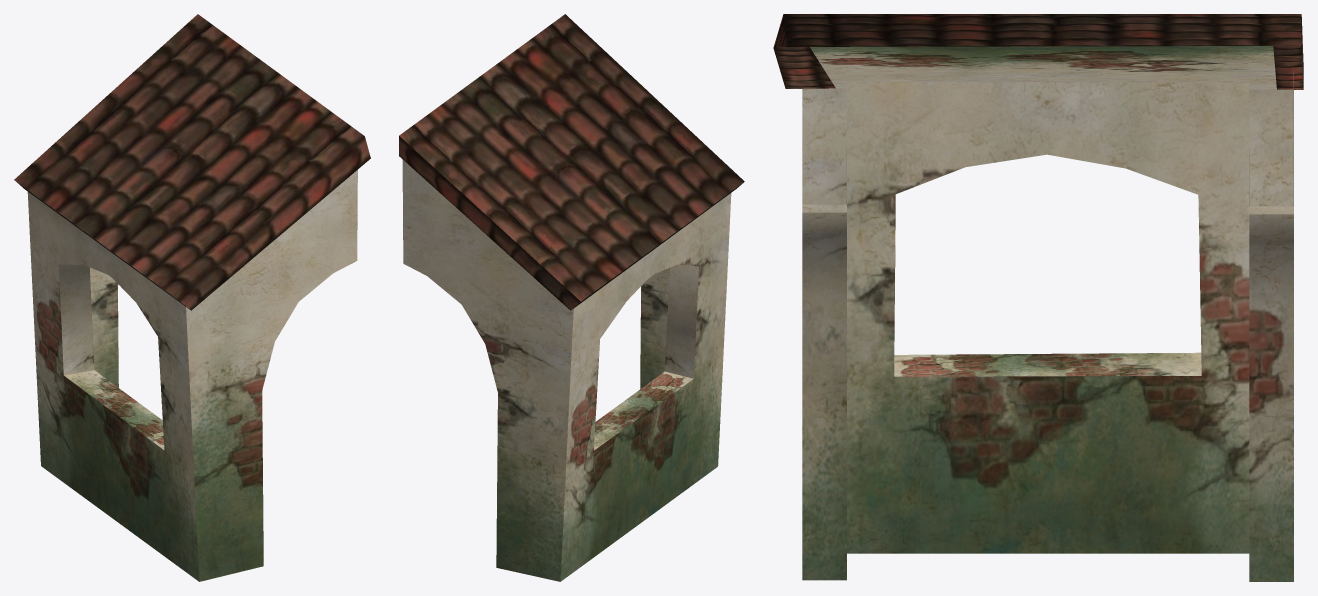
The model's file is spanish_npc_attach_halfarchwindowR.fbx.
3 renders of one model, left to right at view 1: azimuth 30°, elevation 25°; view 2: azimuth 150°, elevation 25°; view 3: azimuth 270°, elevation 25°, orthographic. The views are drawn at different scales.
Parts seen in each view (by area): view 1: wall, roof; view 2: wall, roof; view 3: wall, roof.
Boxes of the visible parts, <box> form: wall: <box>27,170,357,581</box>; roof: <box>14,14,370,310</box>; wall: <box>402,160,731,581</box>; roof: <box>399,14,744,310</box>; wall: <box>802,71,1293,581</box>; roof: <box>773,14,1303,89</box>.
Size of the model in its own units: 977 by 2070 by 1554.
1 material, 1 textured.
